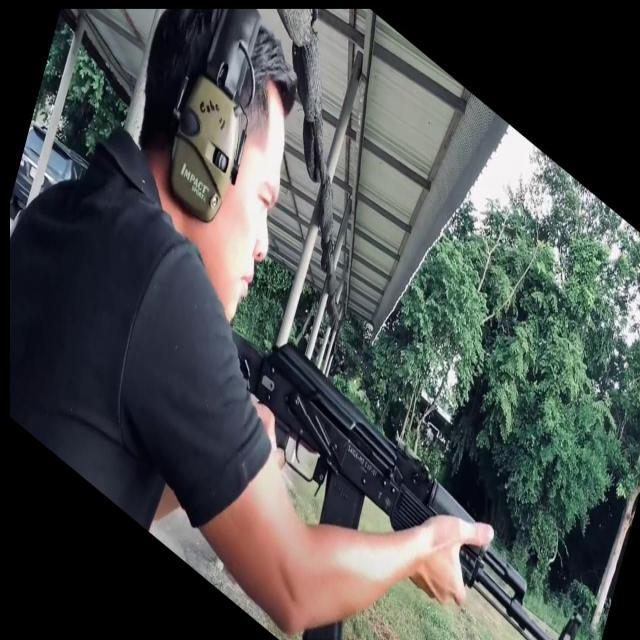weapon: (231, 327, 582, 640)
